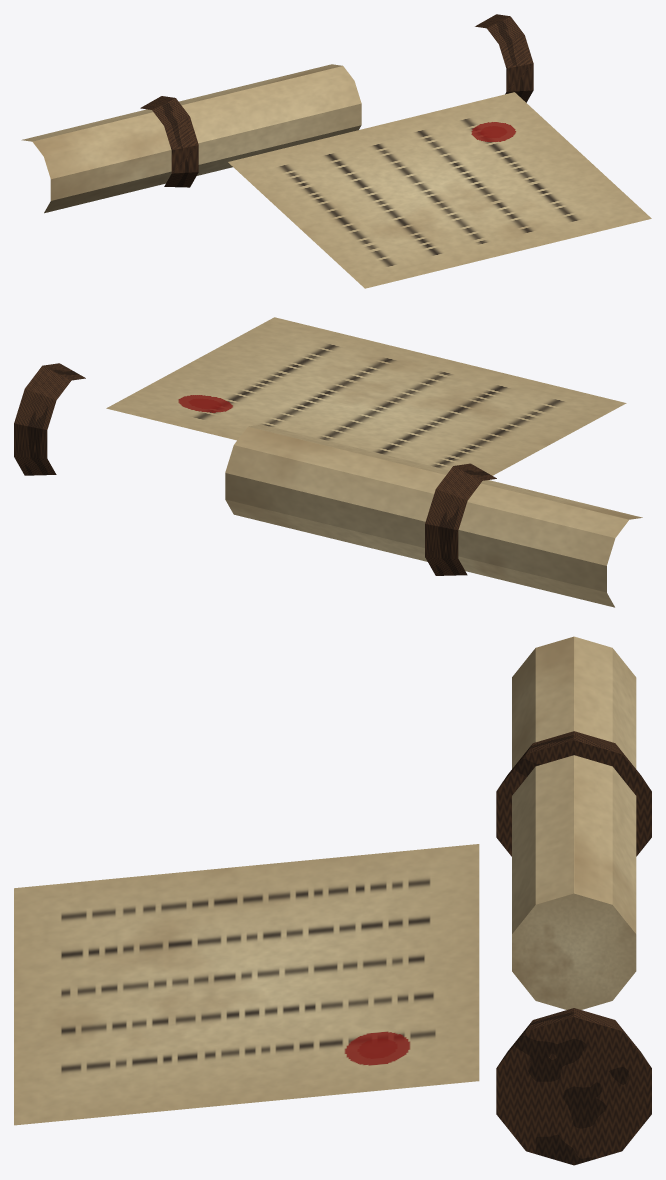
File: contract.glb
3 renders of one model, top to bottom at view 1: azimuth 30°, elevation 25°; view 2: azimuth 150°, elevation 25°; view 3: azimuth 270°, elevation 25°, orthographic. The views are drawn at different scales.
Visible parts, largest first — view 1: Unrolled, Roll, KnobA, KnobB; view 2: Unrolled, Roll, KnobB, KnobA; view 3: Unrolled, Roll, KnobB, KnobA.
Boxes of the visible parts, <box> form: Unrolled: <box>228,92,651,288</box>; Roll: <box>21,64,361,213</box>; KnobA: <box>140,96,198,187</box>; KnobB: <box>475,14,533,102</box>; Unrolled: <box>106,317,626,475</box>; Roll: <box>225,424,642,607</box>; KnobB: <box>14,363,85,475</box>; KnobA: <box>425,463,496,575</box>; Unrolled: <box>14,844,479,1125</box>; Roll: <box>512,636,636,1009</box>; KnobB: <box>496,1008,651,1165</box>; KnobA: <box>496,731,651,856</box>.
Size of the model in its own units: 0.4 by 0.07 by 0.2727.
3 materials, 3 textured.
